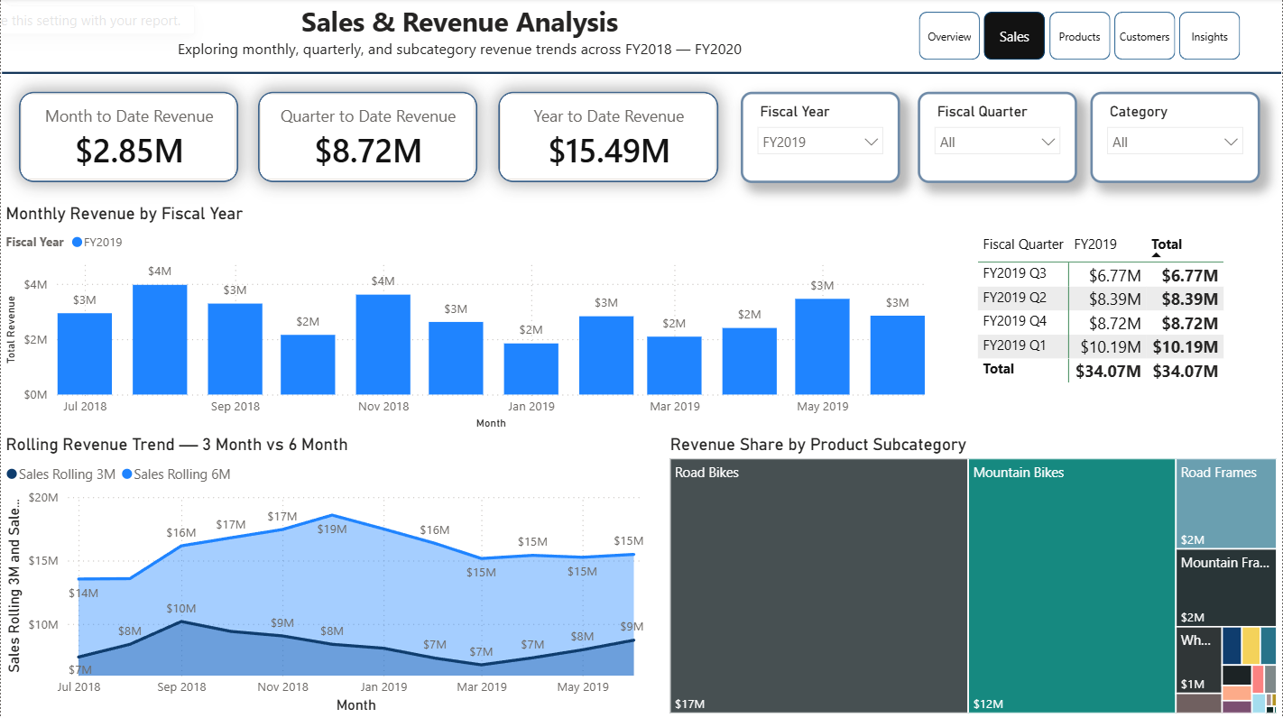

Layout of this report page (visuals, bound fields, positions):
{"tool":"powerbi","page":{"name":"Sales","canvas":[1280,720],"ordinal":1},"visuals":[{"type":"cardVisual","fields":{"Data":["_Measures.Sales Revenue MTD"]},"box":[18,93.7,219.5,90],"z":0},{"type":"cardVisual","fields":{"Data":["_Measures.Sales Revenue YTD"]},"box":[496.9,93.7,220,90],"z":1000},{"type":"cardVisual","fields":{"Data":["_Measures.Sales Revenue QTD"]},"box":[256.8,93.7,219.5,90],"z":2000},{"type":"columnChart","title":"Monthly Revenue by Fiscal Year","fields":{"Y":["_Measures.Total Revenue"],"Category":["Date.Month"],"Series":["Date.Fiscal Year"]},"box":[0,205.4,929.5,231.1],"z":3000},{"type":"treemap","title":"Revenue Share by Product Subcategory","fields":{"Group":["Product.Subcategory"],"Values":["_Measures.Total Revenue"]},"box":[663.8,436.5,616.2,283.7],"z":4000},{"type":"pivotTable","title":"Quarterly Revenue Breakdown","fields":{"Rows":["Date.Fiscal Quarter"],"Values":["_Measures.Total Revenue"],"Columns":["Date.Fiscal Year"]},"box":[971.9,229.8,306.8,172],"z":5000},{"type":"slicer","fields":{"Values":["Date.Fiscal Quarter"]},"box":[916.7,93.7,159.2,91.2],"z":6000},{"type":"textbox","box":[0,0,917.1,74.6],"z":7000},{"type":"shape","box":[1.3,59.1,1278.7,32.1],"z":8000},{"type":"slicer","fields":{"Values":["Product.Category"]},"box":[1088.7,93.7,169.5,91.2],"z":9000},{"type":"slicer","fields":{"Values":["Date.Fiscal Year"]},"box":[739.5,93.7,159.2,91.2],"z":10000},{"type":"areaChart","title":"Rolling Revenue Trend — 3 Month vs 6 Month","fields":{"Category":["Date.Month"],"Y":["_Measures.Sales Rolling 3M","_Measures.Sales Rolling 6M"]},"box":[0,436.5,663.8,283.7],"z":11000},{"type":"bookmarkNavigator","box":[917.1,13.5,325.3,48.9],"z":12000}]}

Visuals, with their boxes in screenshot pixels (x1, y1, x2, y2), scaled from the page's 1280x720 canvas onto the 1283x718 screenshot:
cardVisual - _Measures.Sales Revenue MTD: rect(18, 93, 238, 183)
cardVisual - _Measures.Sales Revenue YTD: rect(498, 93, 719, 183)
cardVisual - _Measures.Sales Revenue QTD: rect(257, 93, 477, 183)
"Monthly Revenue by Fiscal Year" columnChart: rect(0, 205, 932, 435)
"Revenue Share by Product Subcategory" treemap: rect(665, 435, 1282, 717)
"Quarterly Revenue Breakdown" pivotTable: rect(974, 229, 1282, 401)
slicer - Date.Fiscal Quarter: rect(919, 93, 1078, 184)
textbox: rect(0, 0, 919, 74)
shape: rect(1, 59, 1282, 91)
slicer - Product.Category: rect(1091, 93, 1261, 184)
slicer - Date.Fiscal Year: rect(741, 93, 901, 184)
"Rolling Revenue Trend — 3 Month vs 6 Month" areaChart: rect(0, 435, 665, 717)
bookmarkNavigator: rect(919, 13, 1245, 62)
